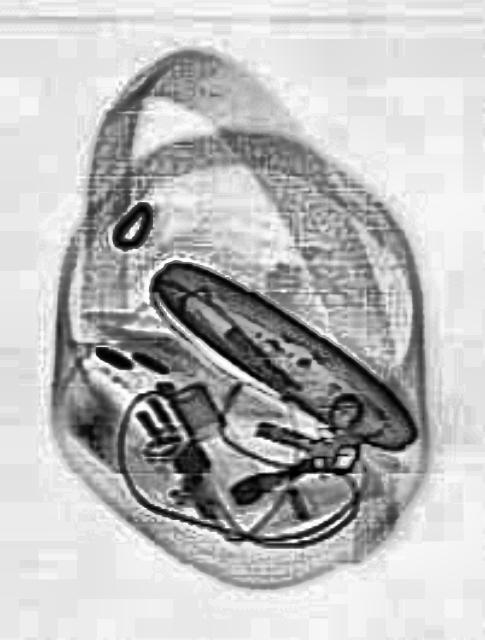Scissors: (248, 388, 368, 484)
